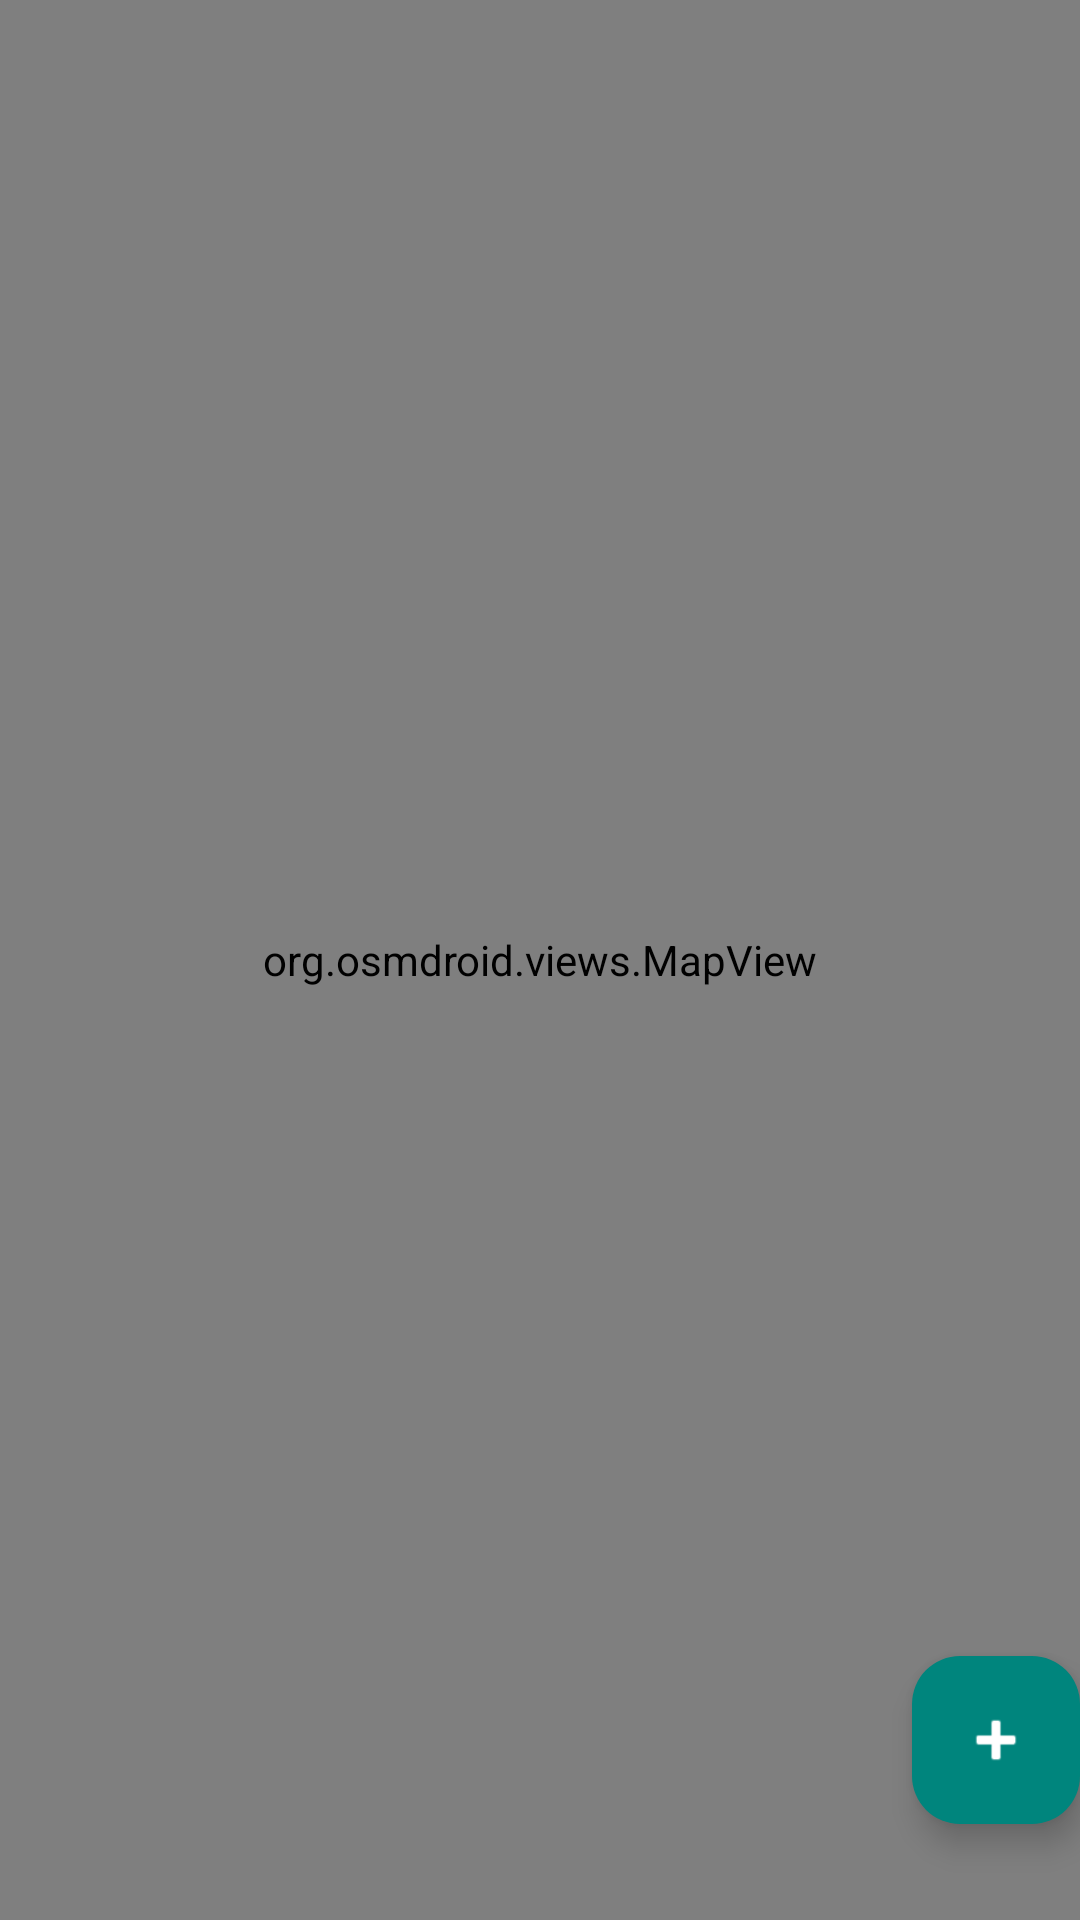

Icon bounding boxes for this 1080×1920 phone screenshot, format (x1,y1,x2,y2):
add: (912,1656,1080,1824)
